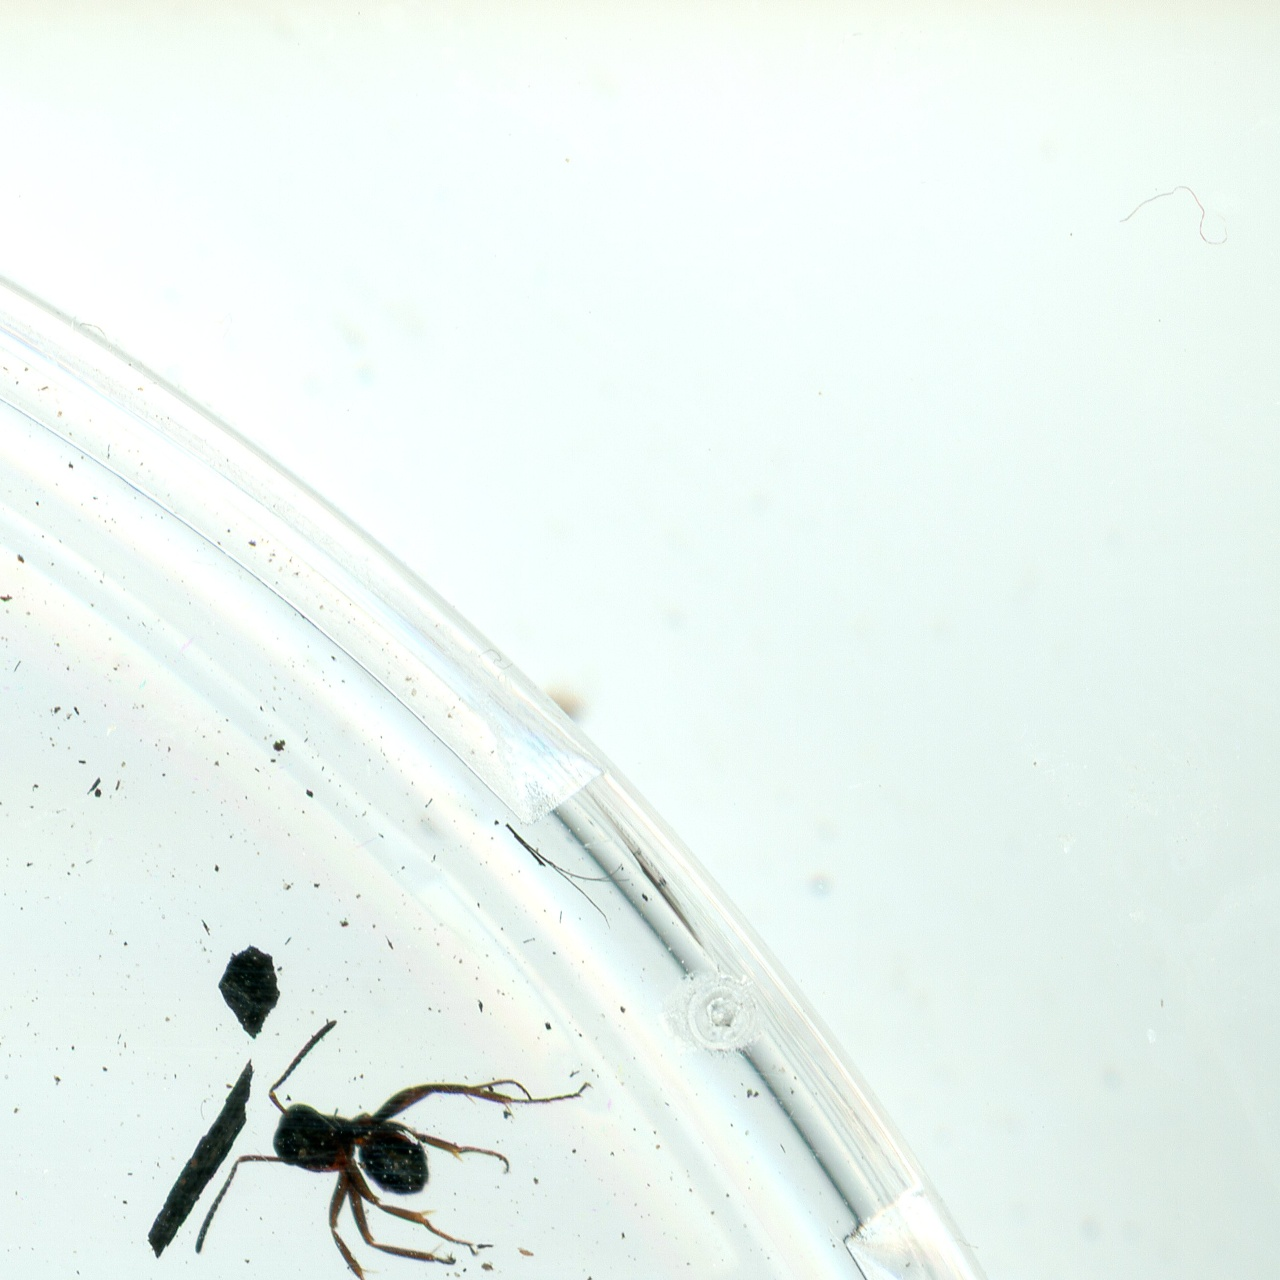arthropod: (183, 1006, 608, 1280)
